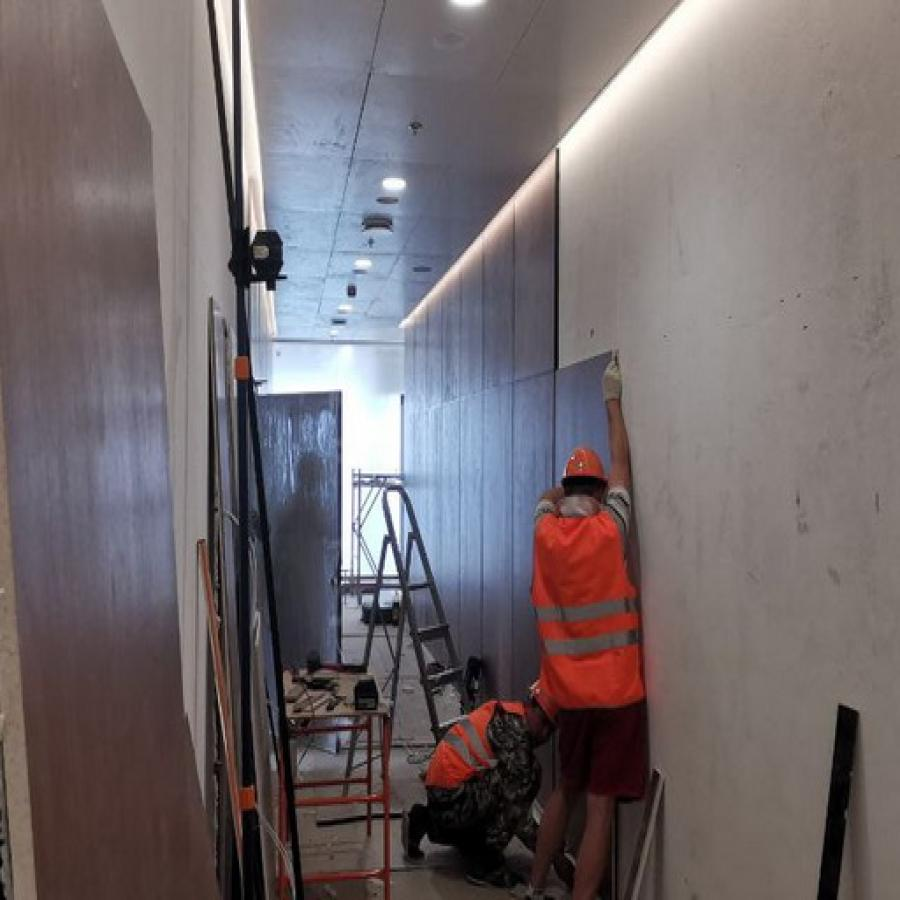Helmet: (561, 443, 612, 503), (522, 678, 561, 745)
